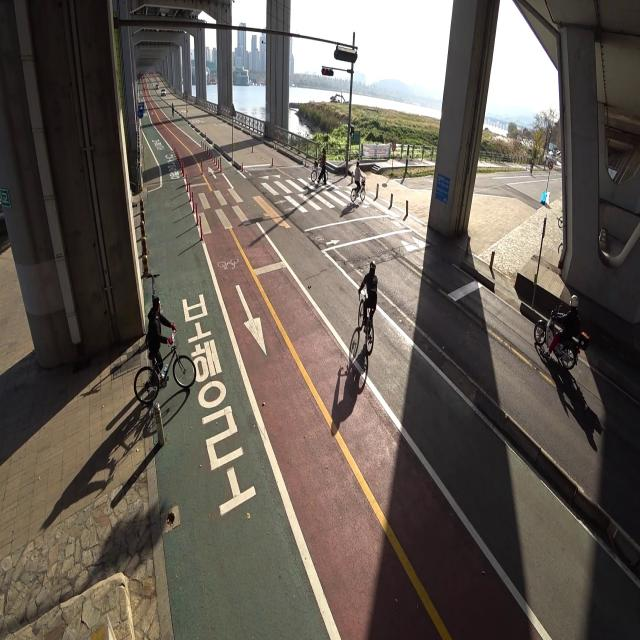Car: (160, 86, 169, 100)
Motorcycle: (530, 288, 592, 372)
